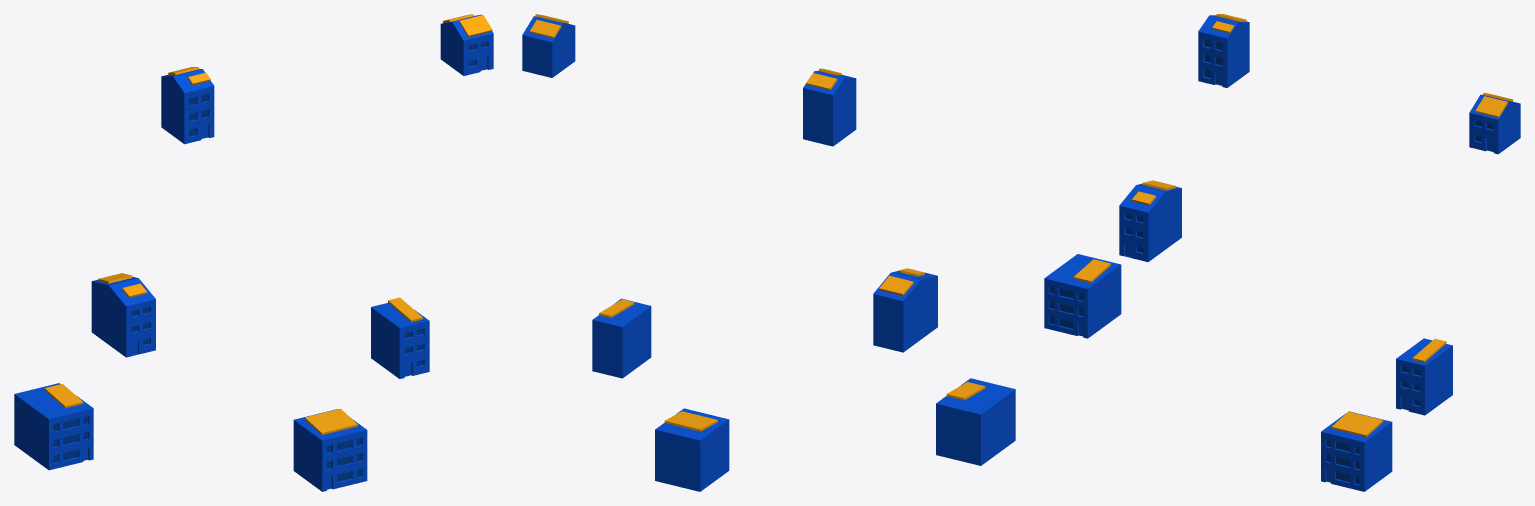
Rendered from BinaGrup7.gltf.
The picture shows the model from 3 angles, left to right: view 1: azimuth 30°, elevation 25°; view 2: azimuth 150°, elevation 25°; view 3: azimuth 330°, elevation 25°; orthographic projection. The views are drawn at different scales.
Visible parts, largest first — view 1: Building_020.003, Building_025.003, Building_048.003, Building_054.003, Building_030.003, Building_058.003, Building_048_RoofCap_0.001, Building_020.005, Building_048.005, Building_020_RoofCap_0.001; view 2: Building_020.003, Building_048.003, Building_025.003, Building_054.003, Building_030.003, Building_058.003, Building_048_RoofCap_0.001; view 3: Building_020.003, Building_025.003, Building_048.003, Building_054.003, Building_030.003, Building_058.003, Building_048_RoofCap_0.001, Building_020.005, Building_048.005.
Part boxes in pixels (x1,y1,x2,y2): Building_020.003: [14, 383, 93, 470]; Building_025.003: [91, 277, 155, 357]; Building_048.003: [293, 409, 367, 491]; Building_054.003: [371, 302, 429, 378]; Building_030.003: [161, 69, 214, 144]; Building_058.003: [440, 14, 493, 75]; Building_048_RoofCap_0.001: [304, 408, 357, 434]; Building_020.005: [53, 416, 87, 462]; Building_048.005: [327, 437, 361, 481]; Building_020_RoofCap_0.001: [44, 384, 83, 408]; Building_020.003: [936, 378, 1015, 465]; Building_048.003: [655, 408, 729, 491]; Building_025.003: [873, 269, 937, 352]; Building_054.003: [592, 298, 651, 378]; Building_030.003: [803, 71, 856, 146]; Building_058.003: [522, 16, 575, 77]; Building_048_RoofCap_0.001: [664, 411, 717, 431]; Building_020.003: [1044, 254, 1121, 338]; Building_025.003: [1119, 183, 1181, 262]; Building_048.003: [1321, 411, 1392, 491]; Building_054.003: [1396, 338, 1452, 415]; Building_030.003: [1198, 15, 1249, 87]; Building_058.003: [1469, 94, 1520, 154]; Building_048_RoofCap_0.001: [1331, 411, 1383, 437]; Building_020.005: [1049, 286, 1083, 328]; Building_048.005: [1326, 439, 1359, 484].
Bounding box in the file's own units: 0.4973 × 0.4537 × 0.0652.
